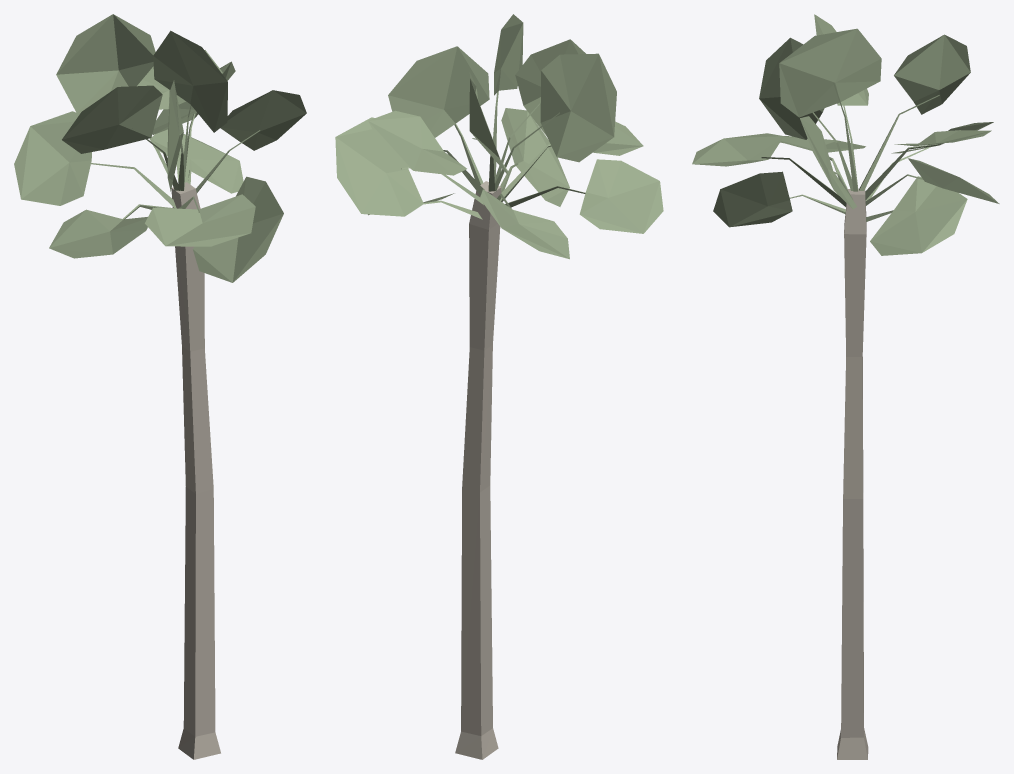
The model's file is SabalMexicana.glb.
3 views of the same model, side by side, from view 1: azimuth 30°, elevation 25°; view 2: azimuth 150°, elevation 25°; view 3: azimuth 270°, elevation 25° (orthographic). The views are drawn at different scales.
Parts seen in each view (by area): view 1: Crown, Trunk; view 2: Crown, Trunk; view 3: Crown, Trunk.
Boxes of the visible parts, x1=… form: Crown: x1=14, y1=14, x2=306, y2=282; Trunk: x1=171, y1=182, x2=220, y2=759; Crown: x1=335, y1=14, x2=663, y2=259; Trunk: x1=455, y1=181, x2=501, y2=759; Crown: x1=692, y1=14, x2=999, y2=255; Trunk: x1=837, y1=189, x2=868, y2=759.
Size of the model in its own units: 6.87 by 18.59 by 7.28.
